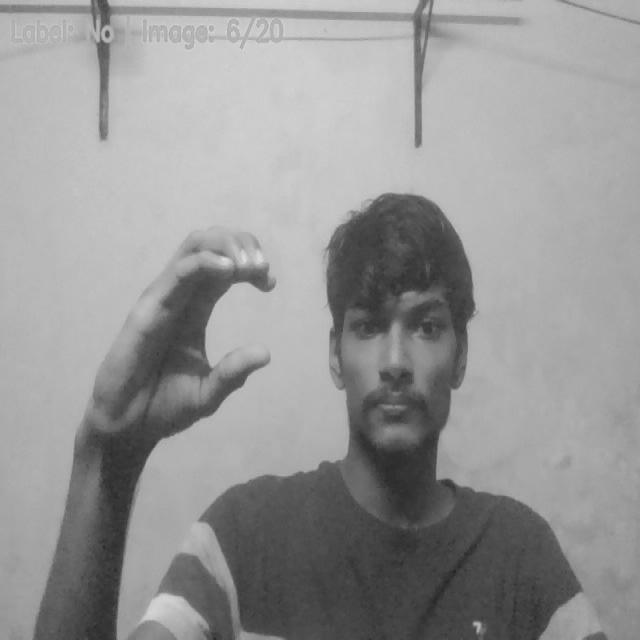No: (92, 218, 278, 429)
